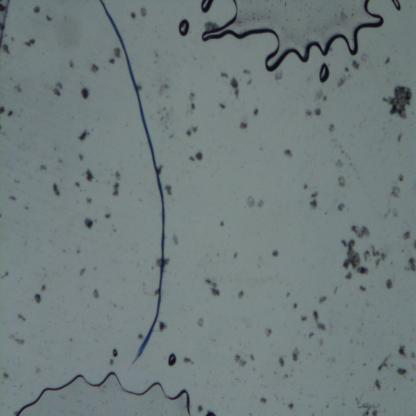Air bubble: (202, 0, 385, 72), (16, 371, 192, 415), (317, 61, 331, 85), (176, 18, 190, 38), (166, 352, 179, 370), (200, 0, 213, 16), (390, 0, 402, 11), (111, 349, 119, 358)
Background material: (337, 238, 370, 276), (380, 84, 412, 122), (0, 0, 12, 49), (310, 309, 328, 335), (204, 274, 222, 299), (354, 398, 378, 415), (350, 223, 372, 241), (378, 352, 393, 373), (312, 89, 330, 104), (7, 332, 25, 347), (231, 77, 242, 101), (404, 256, 416, 275), (234, 353, 249, 368), (158, 82, 174, 96), (52, 80, 63, 99), (184, 125, 200, 137), (188, 90, 196, 112), (111, 182, 121, 199), (396, 365, 408, 379), (397, 343, 409, 357), (51, 183, 62, 198), (78, 130, 90, 143), (1, 43, 12, 57), (370, 244, 381, 258), (291, 347, 300, 364), (164, 184, 174, 199), (85, 168, 95, 183), (82, 218, 94, 230), (80, 86, 90, 100), (338, 174, 348, 188), (336, 76, 346, 90), (283, 148, 294, 160), (333, 158, 344, 170), (23, 38, 36, 48), (312, 106, 322, 119), (33, 292, 42, 306), (373, 378, 382, 392), (336, 202, 347, 213), (218, 99, 228, 111), (350, 58, 360, 70), (258, 394, 268, 406), (139, 7, 149, 19), (18, 311, 28, 323), (391, 186, 400, 199), (402, 229, 411, 242), (114, 47, 123, 60), (278, 354, 286, 368), (362, 249, 370, 263), (38, 162, 49, 172), (343, 270, 354, 280), (309, 199, 318, 211), (197, 316, 206, 328), (264, 327, 273, 339), (195, 150, 204, 162), (386, 278, 394, 291), (68, 58, 76, 71), (237, 287, 245, 300), (232, 249, 240, 262), (90, 64, 100, 74), (239, 120, 248, 131), (247, 352, 256, 363), (158, 321, 167, 332), (374, 258, 382, 270), (272, 249, 280, 261), (220, 71, 232, 79), (182, 356, 194, 364), (247, 196, 255, 208), (8, 194, 18, 203), (359, 283, 368, 293), (275, 71, 284, 81), (0, 270, 10, 279), (114, 170, 122, 181), (304, 107, 312, 118), (78, 152, 85, 164), (173, 232, 179, 246), (381, 251, 388, 263), (129, 10, 137, 20), (74, 180, 82, 190), (299, 314, 309, 322), (318, 296, 328, 304), (258, 198, 265, 209), (398, 132, 404, 144), (7, 109, 15, 118), (197, 402, 203, 414), (80, 266, 86, 278), (15, 84, 23, 93), (0, 105, 6, 117), (344, 65, 351, 75), (93, 288, 100, 298), (254, 106, 260, 117), (33, 6, 41, 14), (329, 124, 336, 133), (384, 56, 391, 65), (398, 173, 404, 183), (40, 284, 46, 294), (242, 68, 252, 74), (288, 400, 294, 410), (285, 290, 292, 298), (3, 372, 10, 380), (108, 57, 116, 64), (104, 213, 112, 220), (46, 14, 52, 23), (292, 302, 299, 309), (219, 220, 225, 228), (312, 192, 320, 198), (188, 155, 194, 163), (308, 332, 316, 338), (86, 196, 92, 204), (413, 238, 416, 251)
Cotton: (100, 1, 167, 369)
